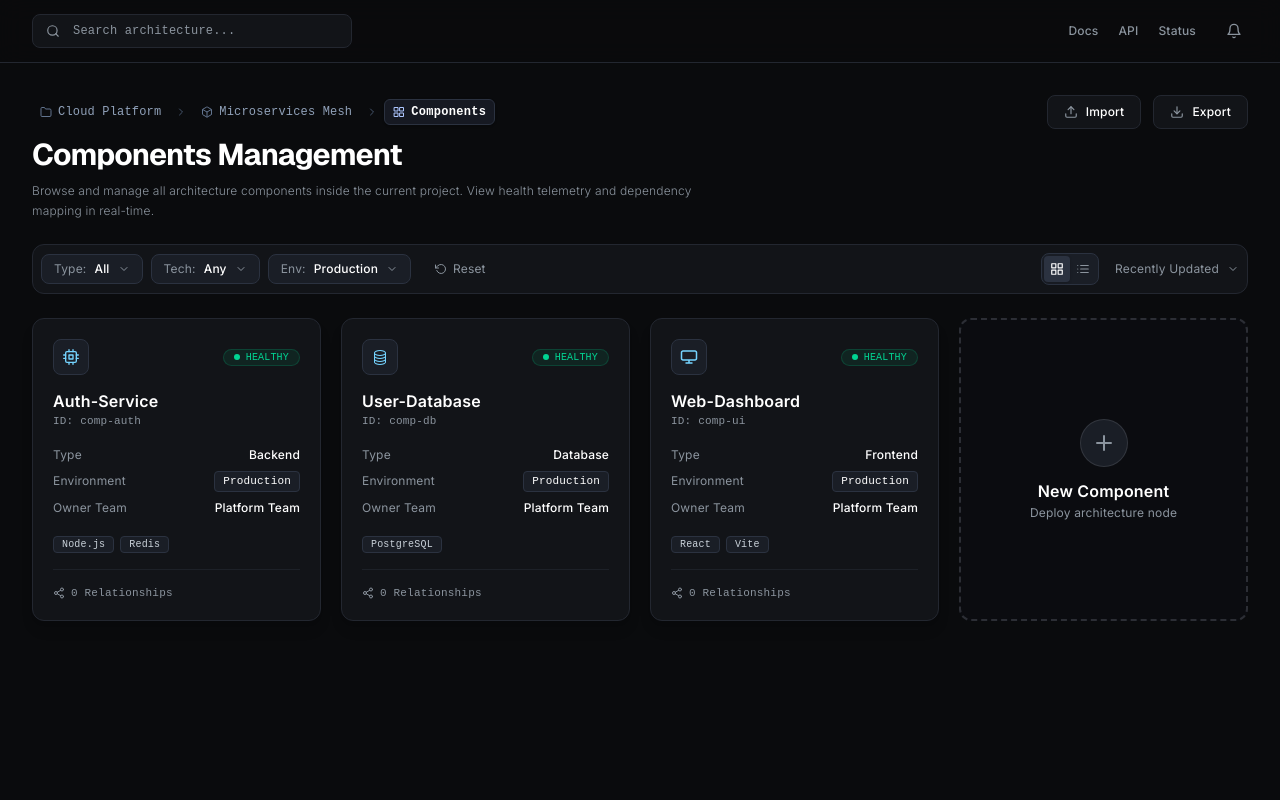
Test: Components Management Center › toggles between grid and list views
Expected: the heading "Auth-Service" is shown, [53,391,158,411]
Toggle list view
Click the button named "list view": coordinates (1083, 269) [1070,256,1096,282]
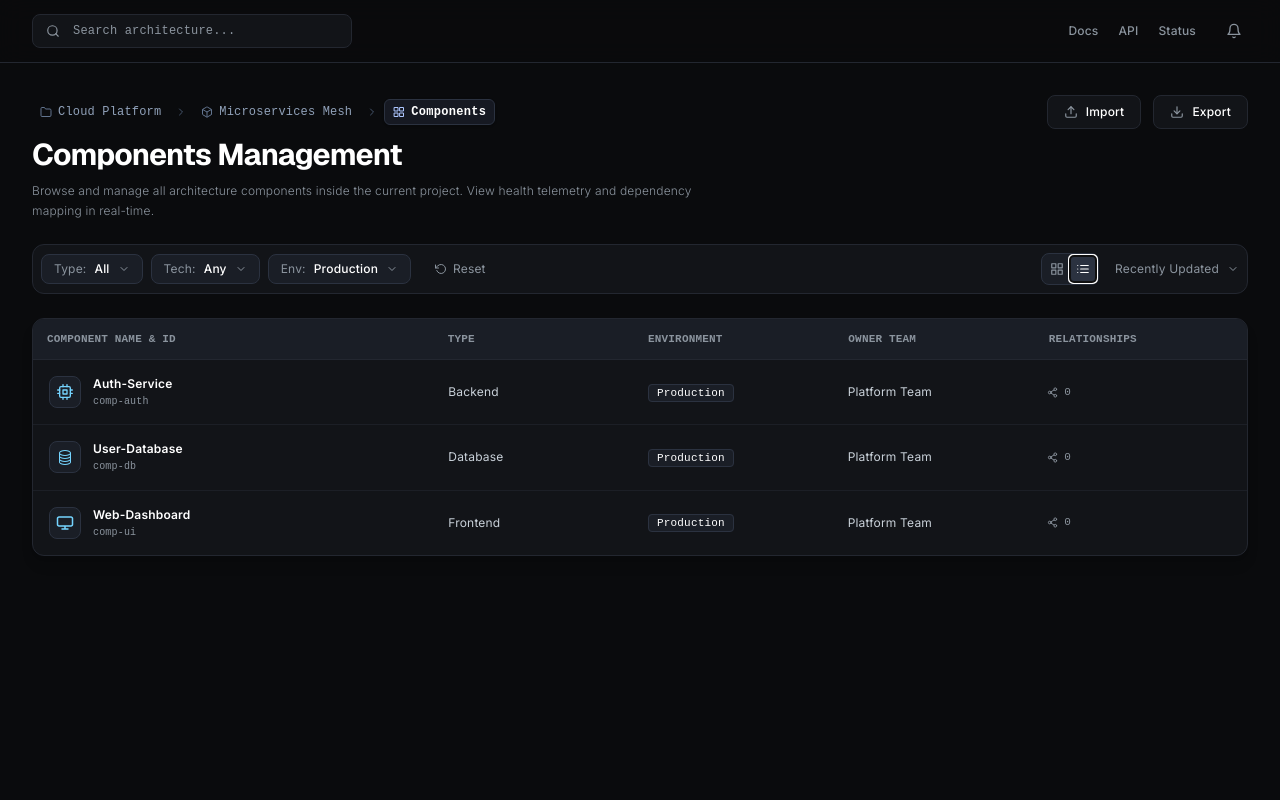
Now the text "Component Name & ID" is shown, box [47,333,176,345]
